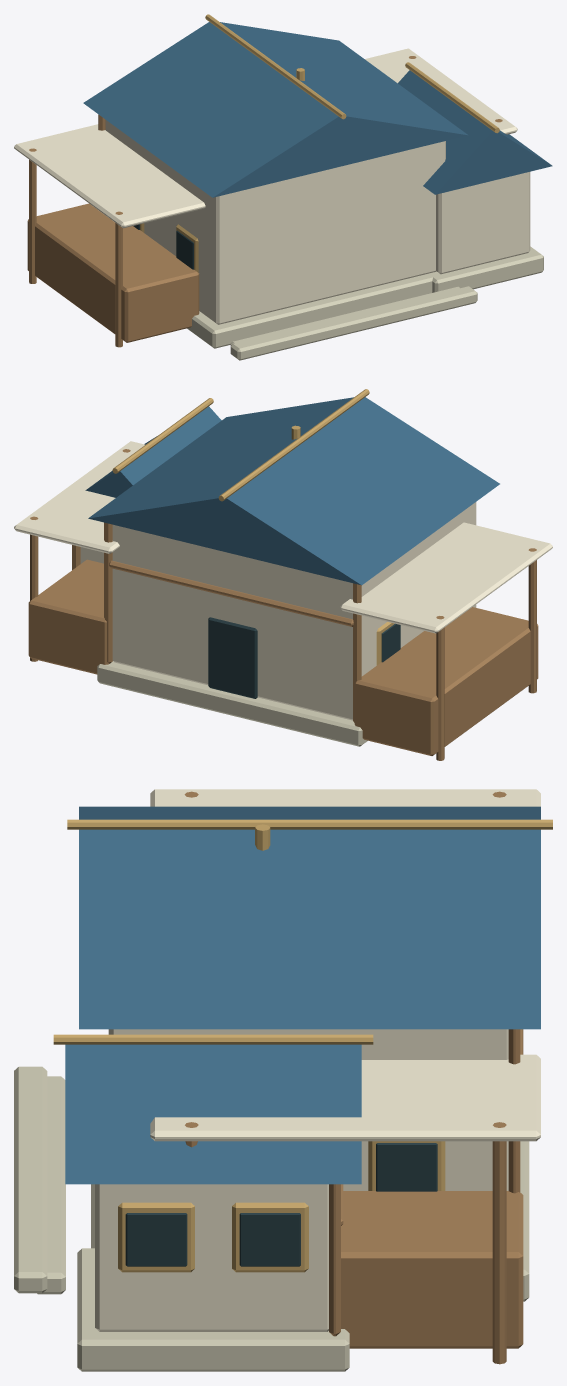
The model's file is level_15.glb.
The picture shows the model from 3 angles, top to bottom: view 1: azimuth 30°, elevation 25°; view 2: azimuth 150°, elevation 25°; view 3: azimuth 270°, elevation 25°; orthographic projection. The views are drawn at different scales.
Visible parts, largest first — view 1: market — level 15; view 2: market — level 15; view 3: market — level 15.
Part boxes in pixels (bbox=[...]): market — level 15: bbox=[14, 14, 552, 360]; market — level 15: bbox=[14, 389, 552, 760]; market — level 15: bbox=[14, 789, 552, 1371].
Bounding box in the file's own units: 7.08 × 3.52 × 4.55.
